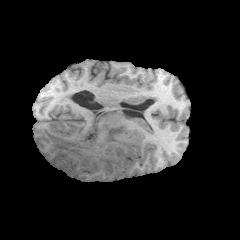glioma: (42, 119, 142, 175)
